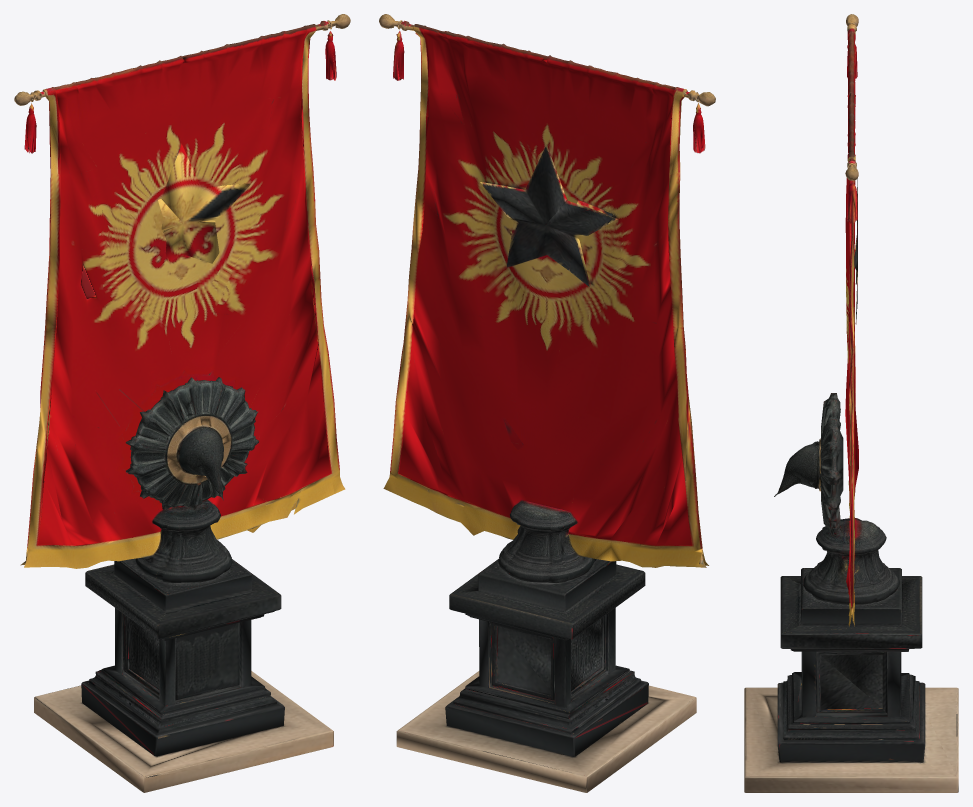
The model's file is CoLenh_PhuDong.fbx.
3 renders of one model, left to right at view 1: azimuth 30°, elevation 25°; view 2: azimuth 150°, elevation 25°; view 3: azimuth 270°, elevation 25°, orthographic. The views are drawn at different scales.
Visible parts, largest first — view 1: Mesh_0; view 2: Mesh_0; view 3: Mesh_0.
Part boxes in pixels (bbox=[...]): Mesh_0: bbox=[14, 14, 350, 792]; Mesh_0: bbox=[379, 14, 715, 792]; Mesh_0: bbox=[744, 14, 958, 792].
Bounding box in the file's own units: 49.22 × 95.02 × 28.08.
1 material, 1 textured.
